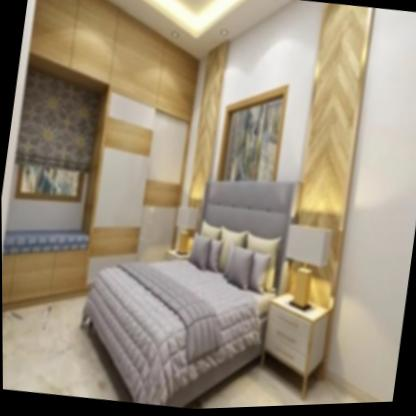Bed: (66, 155, 298, 414)
Lamp: (275, 215, 339, 315)
Nightstand: (254, 294, 335, 382)
